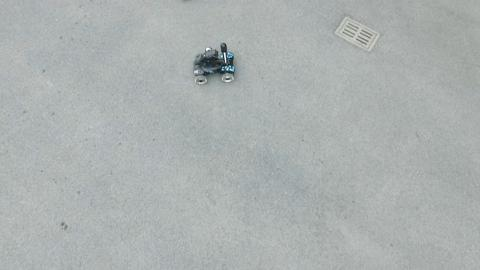chariot: (194, 40, 240, 86)
